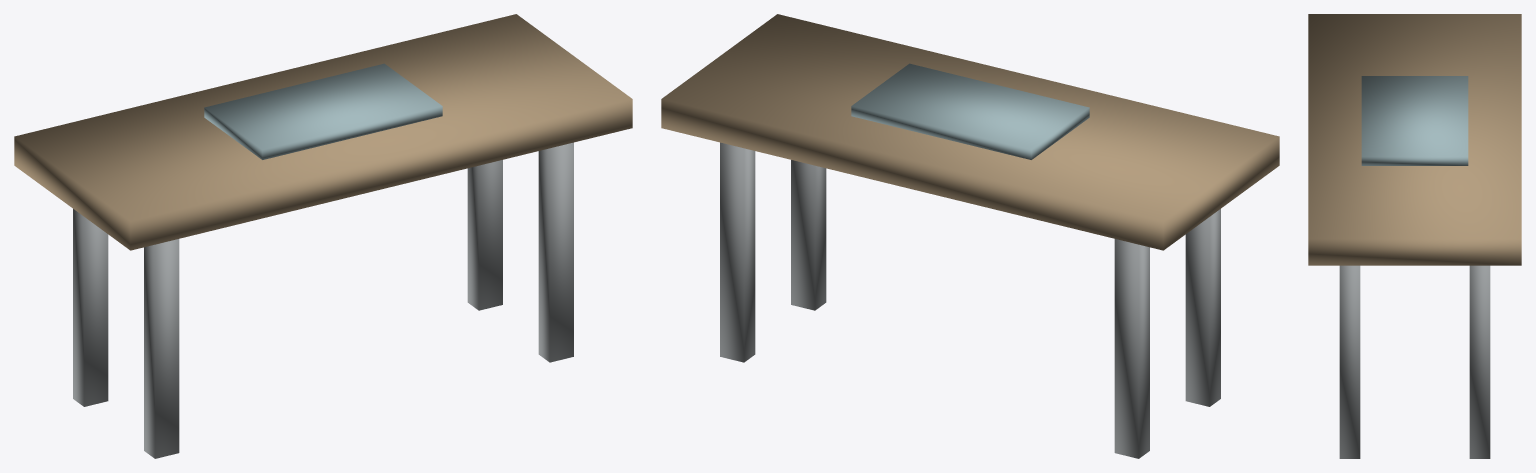
The model's file is material_inspection_table__wide.glb.
3 renders of one model, left to right at view 1: azimuth 30°, elevation 25°; view 2: azimuth 150°, elevation 25°; view 3: azimuth 270°, elevation 25°, orthographic. The views are drawn at different scales.
Visible parts, largest first — view 1: world; view 2: world; view 3: world.
Boxes of the visible parts, <box> form: world: <box>14,14,632,458</box>; world: <box>661,14,1279,458</box>; world: <box>1308,14,1521,458</box>.
Bounding box in the file's own units: 1.8 × 0.9275 × 0.72.
